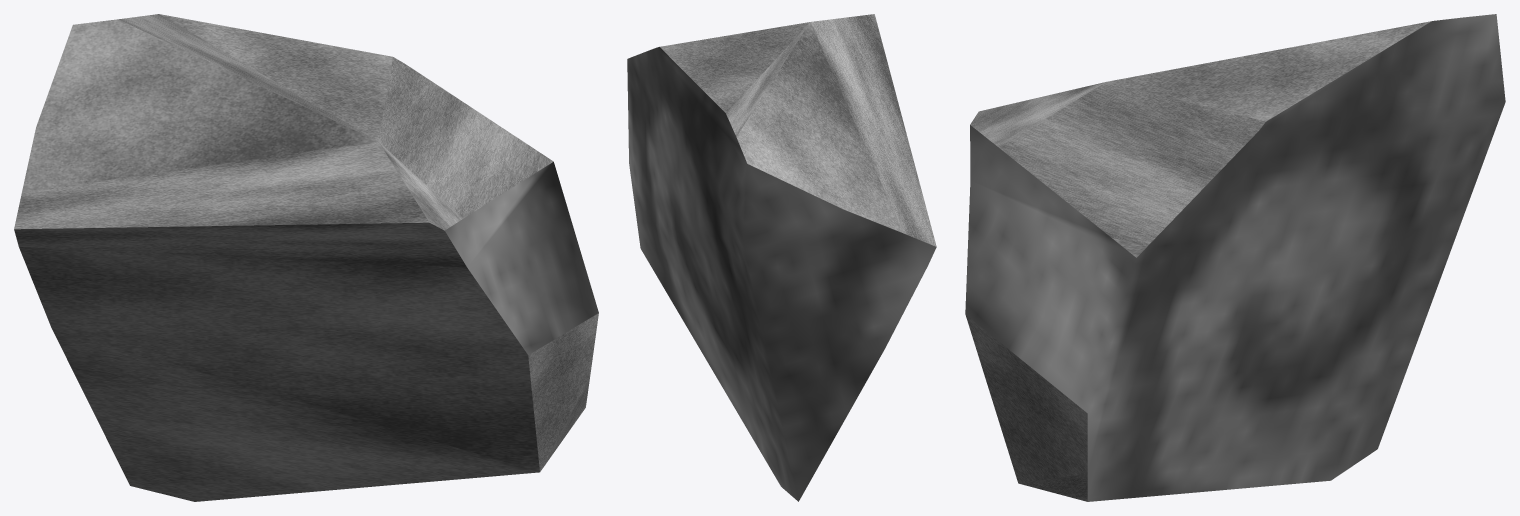
Rendered from tail_cell_010.fbx.
3 renders of one model, left to right at view 1: azimuth 30°, elevation 25°; view 2: azimuth 150°, elevation 25°; view 3: azimuth 270°, elevation 25°, orthographic. The views are drawn at different scales.
Visible parts, largest first — view 1: tail_cell.010; view 2: tail_cell.010; view 3: tail_cell.010.
Part boxes in pixels (bbox=[...]): tail_cell.010: bbox=[14, 14, 598, 501]; tail_cell.010: bbox=[627, 14, 936, 501]; tail_cell.010: bbox=[965, 14, 1505, 501].
Size of the model in its own units: 36.58 by 33.82 by 35.52.
